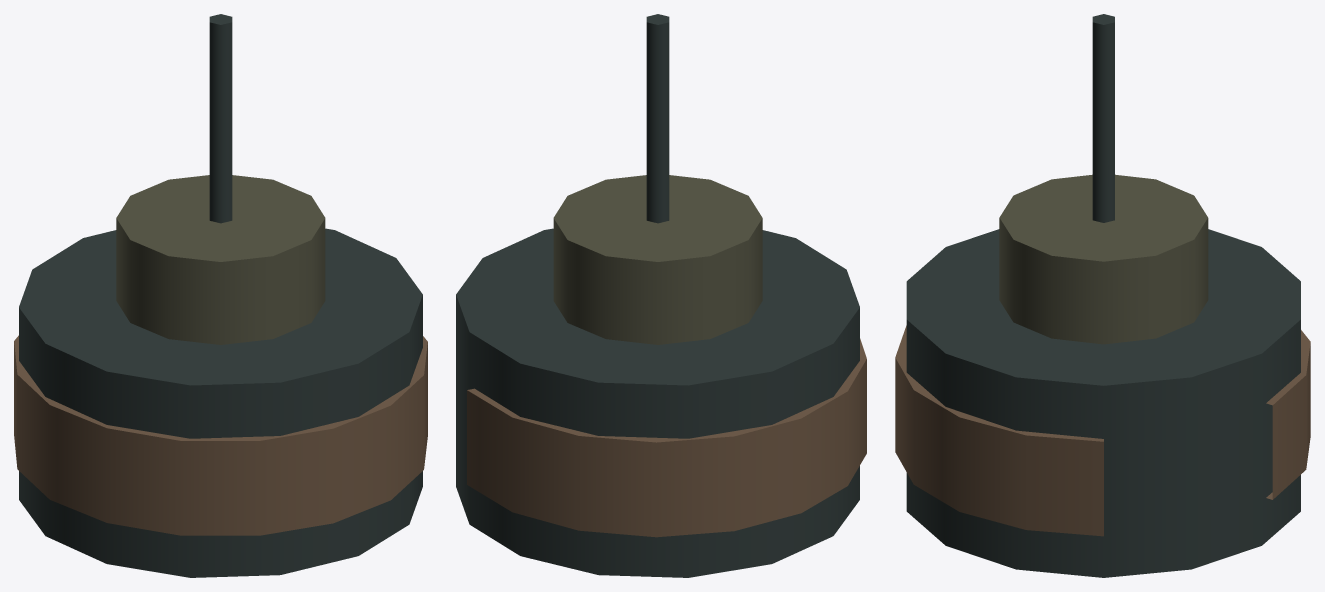
Rendered from sigil_ink.obj.
3 renders of one model, left to right at view 1: azimuth 30°, elevation 25°; view 2: azimuth 150°, elevation 25°; view 3: azimuth 270°, elevation 25°, orthographic.
Parts seen in each view (by area): view 1: sigil_ink; view 2: sigil_ink; view 3: sigil_ink.
Boxes of the visible parts, x1,y1,x2,y2 form: sigil_ink: [14, 14, 427, 577]; sigil_ink: [456, 14, 866, 577]; sigil_ink: [895, 14, 1310, 577].
Bounding box in the file's own units: 1.28 × 1.6 × 1.27.
